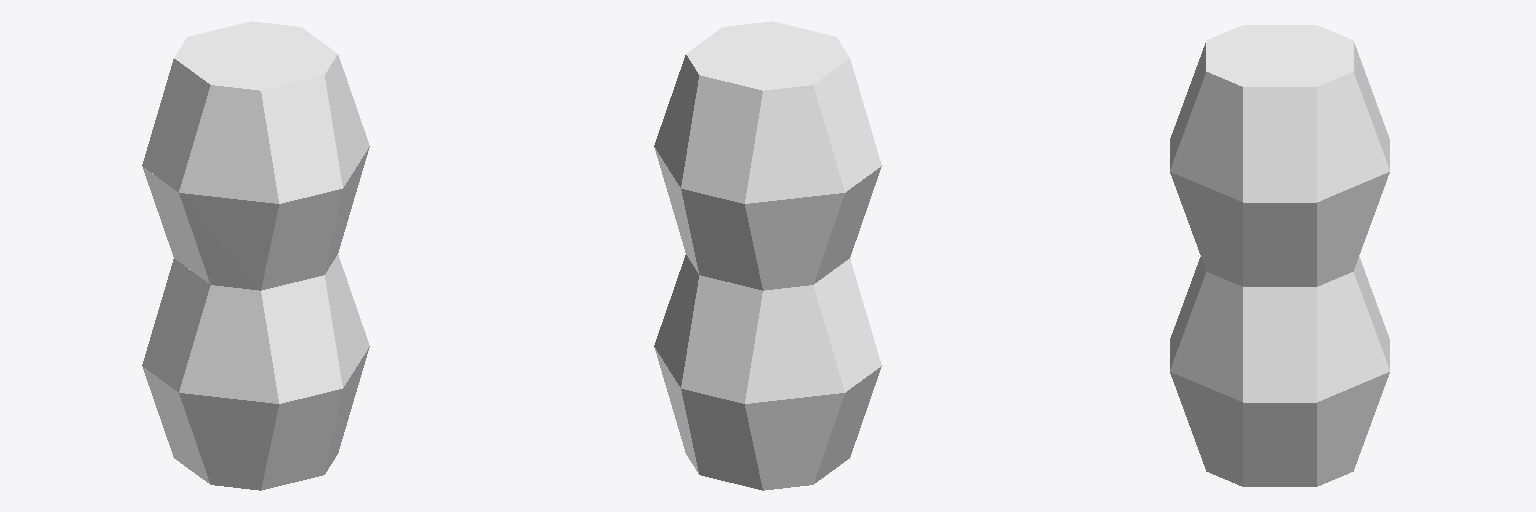
Rendered from penut.obj.
3 renders of one model, left to right at view 1: azimuth 30°, elevation 25°; view 2: azimuth 150°, elevation 25°; view 3: azimuth 270°, elevation 25°, orthographic.
Visible parts, largest first — view 1: penut; view 2: penut; view 3: penut.
Part boxes in pixels (bbox=[...]): penut: bbox=[142, 21, 369, 490]; penut: bbox=[654, 21, 881, 490]; penut: bbox=[1170, 25, 1389, 486].
Size of the model in its own units: 1.5 by 3 by 1.5.